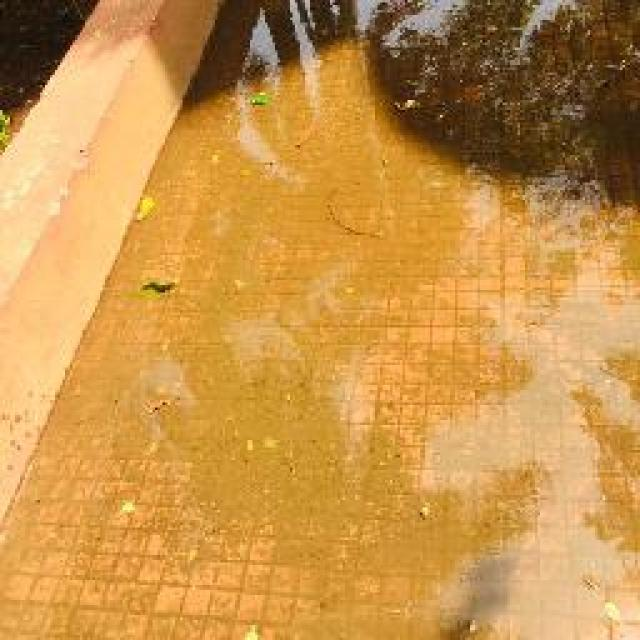stagnation: (139, 186, 547, 518)
